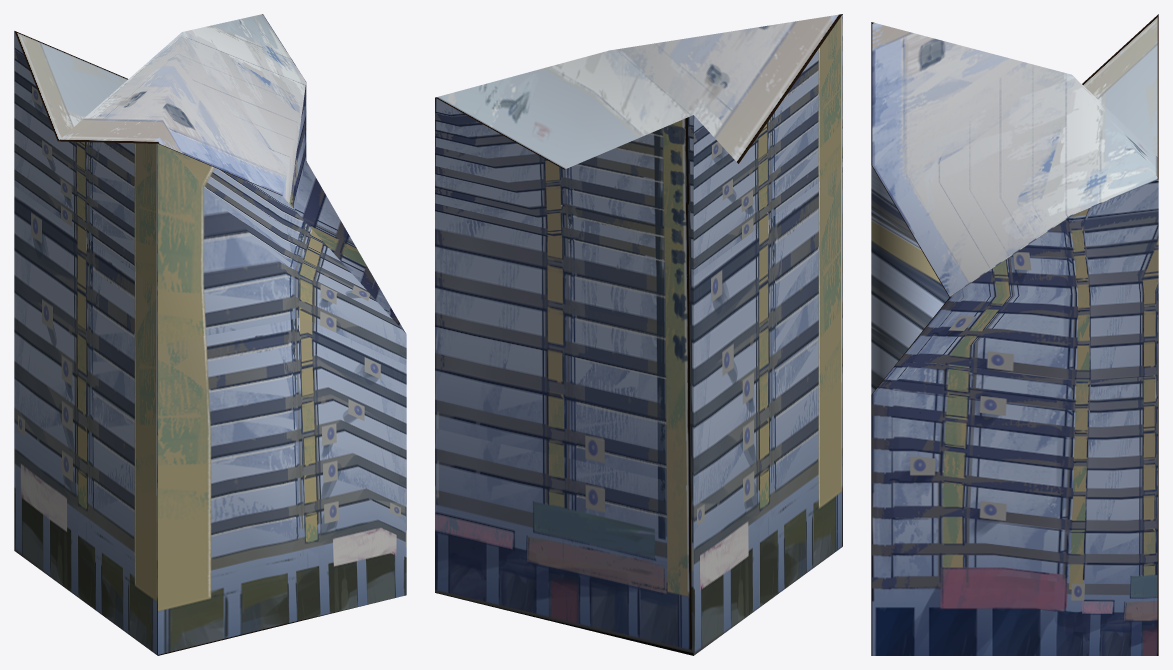
File: bg_building_des2.fbx
The picture shows the model from 3 angles, left to right: view 1: azimuth 30°, elevation 25°; view 2: azimuth 150°, elevation 25°; view 3: azimuth 270°, elevation 25°; orthographic projection. The views are drawn at different scales.
Parts seen in each view (by area): view 1: Cube; view 2: Cube; view 3: Cube.
Part boxes in pixels (x1=…): Cube: x1=14, y1=14, x2=406, y2=655; Cube: x1=435, y1=14, x2=842, y2=655; Cube: x1=871, y1=14, x2=1158, y2=655.
Bounding box in the file's own units: 2 × 4 × 2.
